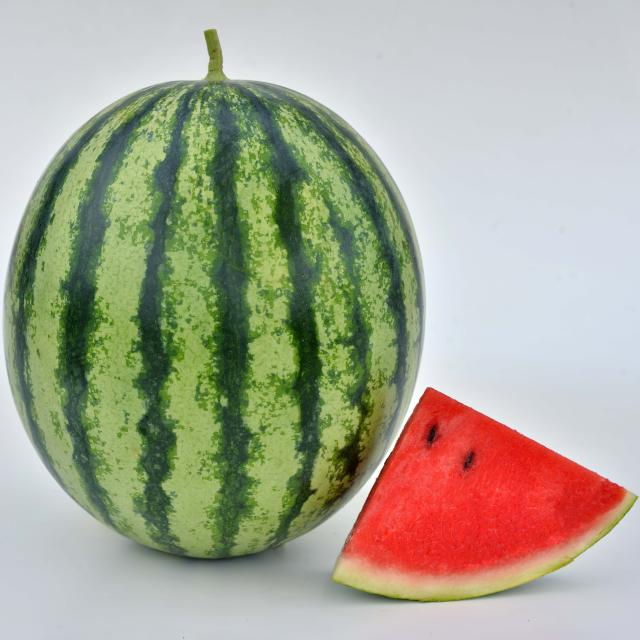Watermelon: (5, 31, 424, 557), (332, 388, 636, 601)
